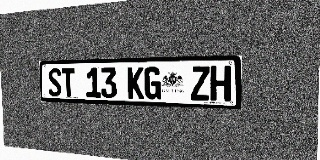1: (86, 68, 101, 98)
3: (101, 67, 116, 98)
G: (144, 67, 161, 99)
H: (210, 66, 231, 101)
K: (127, 67, 144, 99)
S: (48, 68, 62, 97)
T: (61, 68, 75, 97)
Z: (191, 66, 210, 101)
